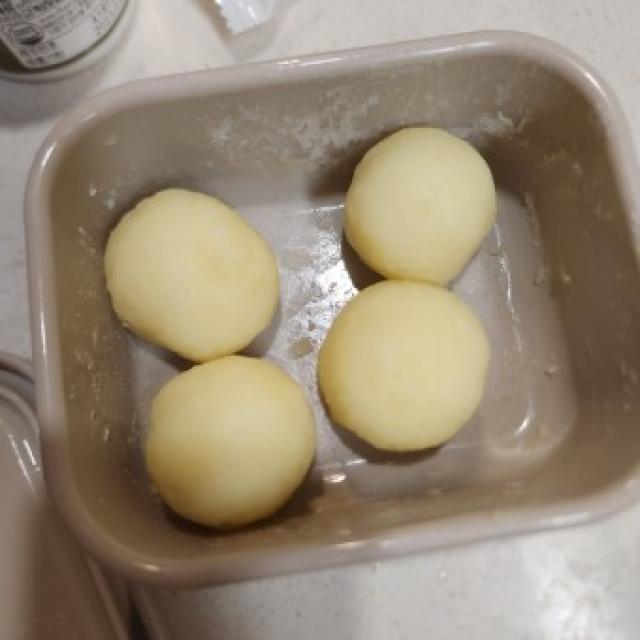potato: (318, 276, 492, 454), (99, 180, 273, 356), (146, 352, 318, 529), (343, 124, 497, 287)
